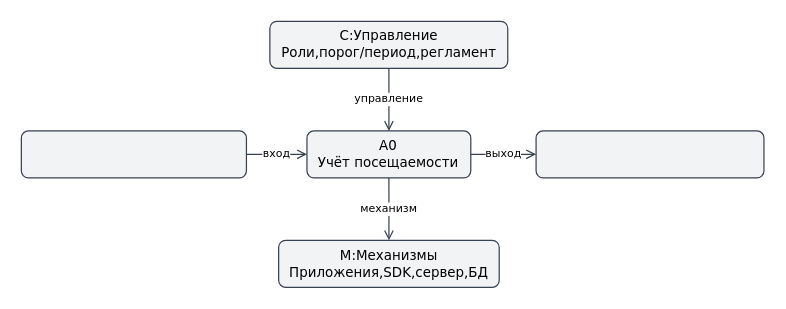
Image size: 786x309. Some labels were removed from this diagram. Each missing label, with the centre of its shape:
"I:Вход Расписание,списки,события" belongs at pixel 133 154.
"O:Выход Статусы,риск,экспорт,аудит" belongs at pixel 649 154.
